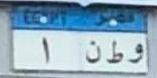1: (41, 37, 52, 65)
Taa: (107, 38, 125, 65)
noon: (85, 39, 102, 66)
waw: (128, 40, 144, 67)
